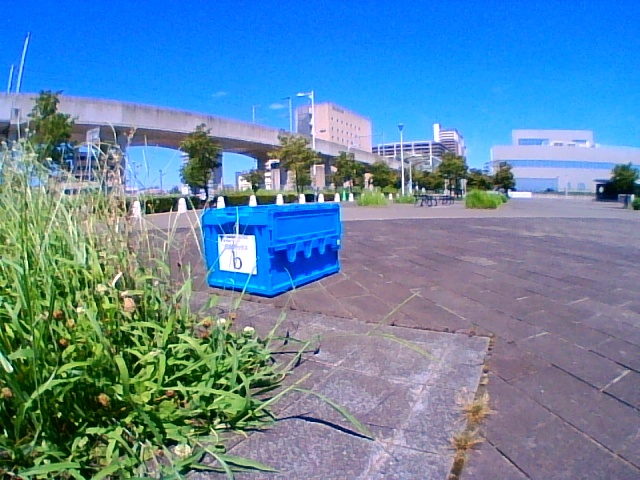blue_box: (208, 209, 307, 283)
tag_b: (220, 236, 255, 271)
